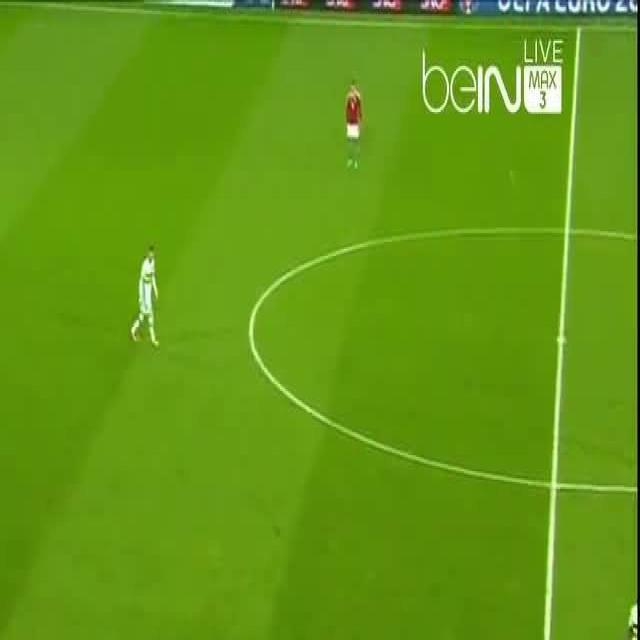player-white: (130, 245, 160, 348), (344, 82, 362, 170)
